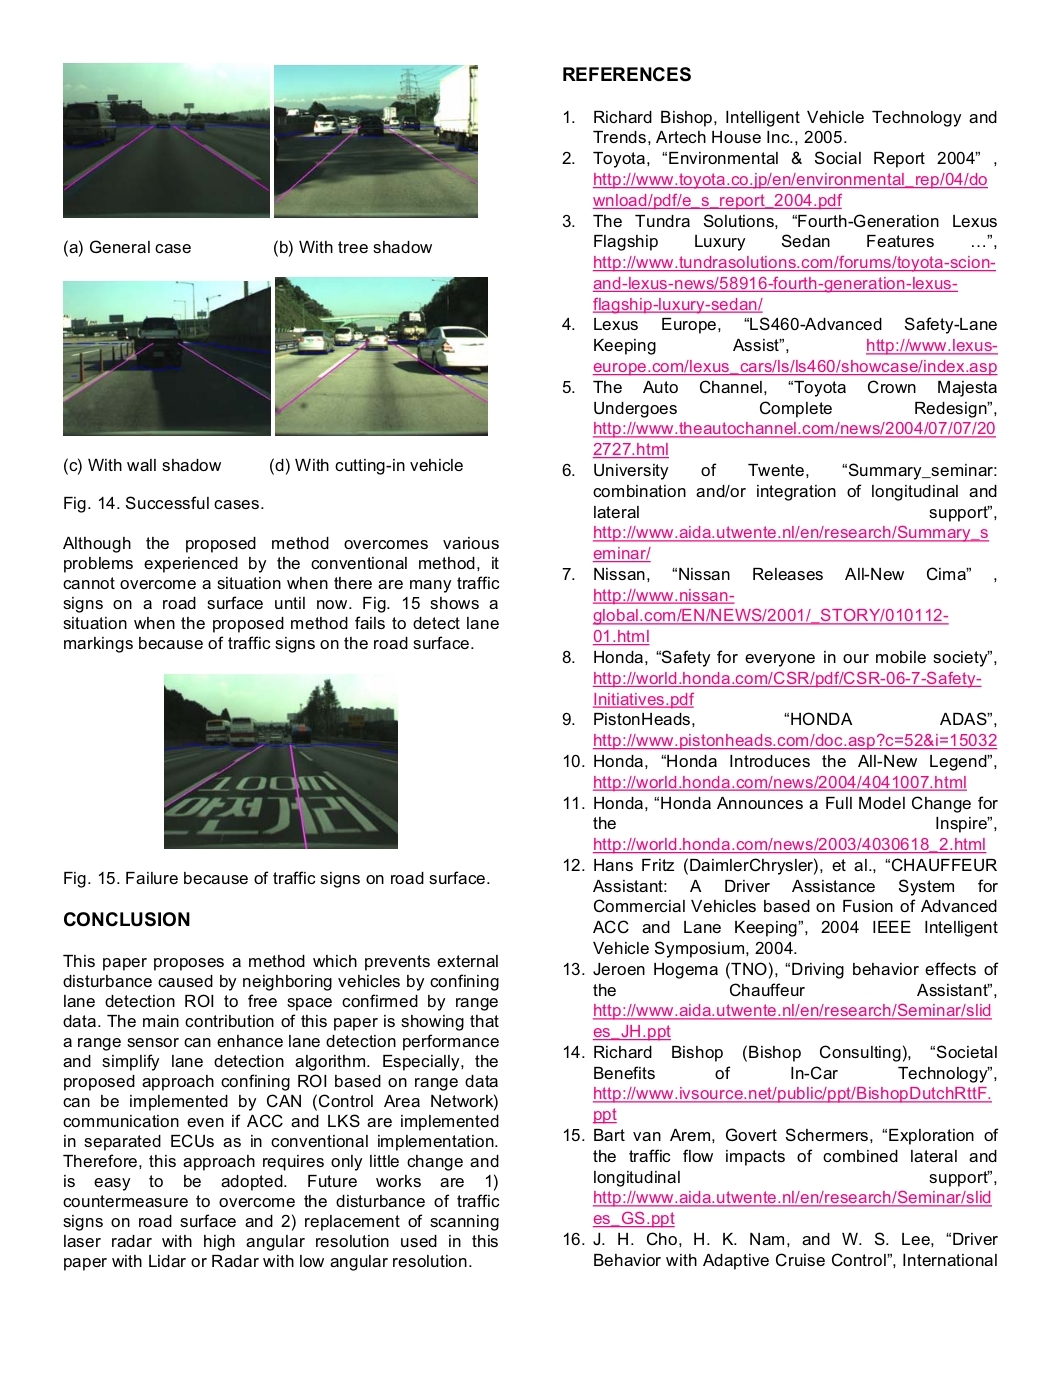figure: (164, 673, 397, 849), (275, 277, 487, 435), (64, 281, 270, 435), (64, 64, 269, 217), (274, 65, 477, 217)
